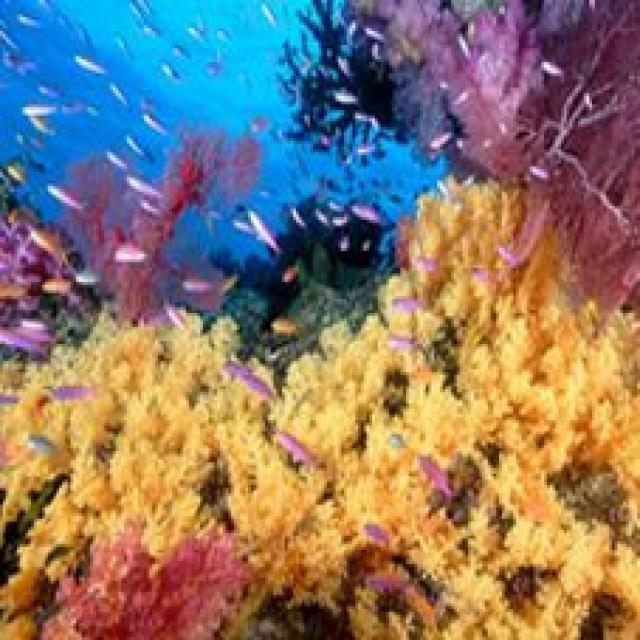Healthy: (1, 178, 640, 640), (370, 1, 640, 308), (70, 126, 268, 325), (55, 528, 247, 640), (1, 215, 81, 359)
